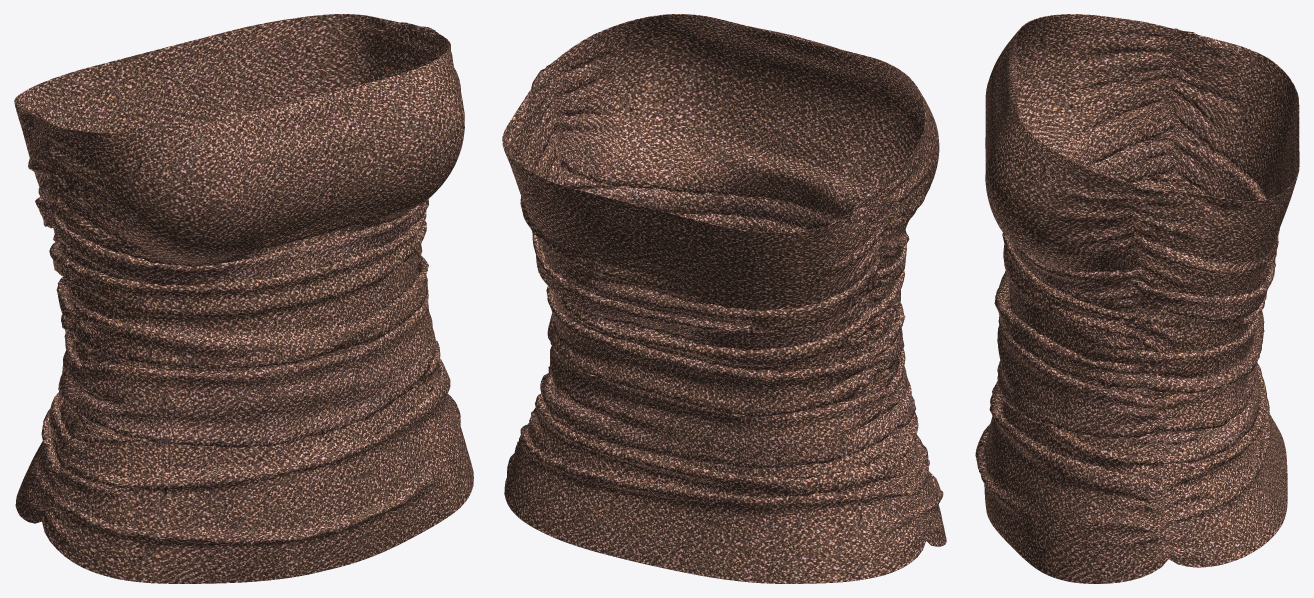
The model's file is fruncido_largo.glb.
3 views of the same model, side by side, from view 1: azimuth 30°, elevation 25°; view 2: azimuth 150°, elevation 25°; view 3: azimuth 270°, elevation 25° (orthographic). The views are drawn at different scales.
Parts seen in each view (by area): view 1: Cloth; view 2: Cloth; view 3: Cloth.
Part boxes in pixels (left/top/right/bottom): Cloth: left=14, top=14, right=473, bottom=583; Cloth: left=502, top=14, right=946, bottom=583; Cloth: left=975, top=14, right=1299, bottom=583.
Size of the model in its own units: 0.3257 by 0.3441 by 0.2369.
1 material, 1 textured.
